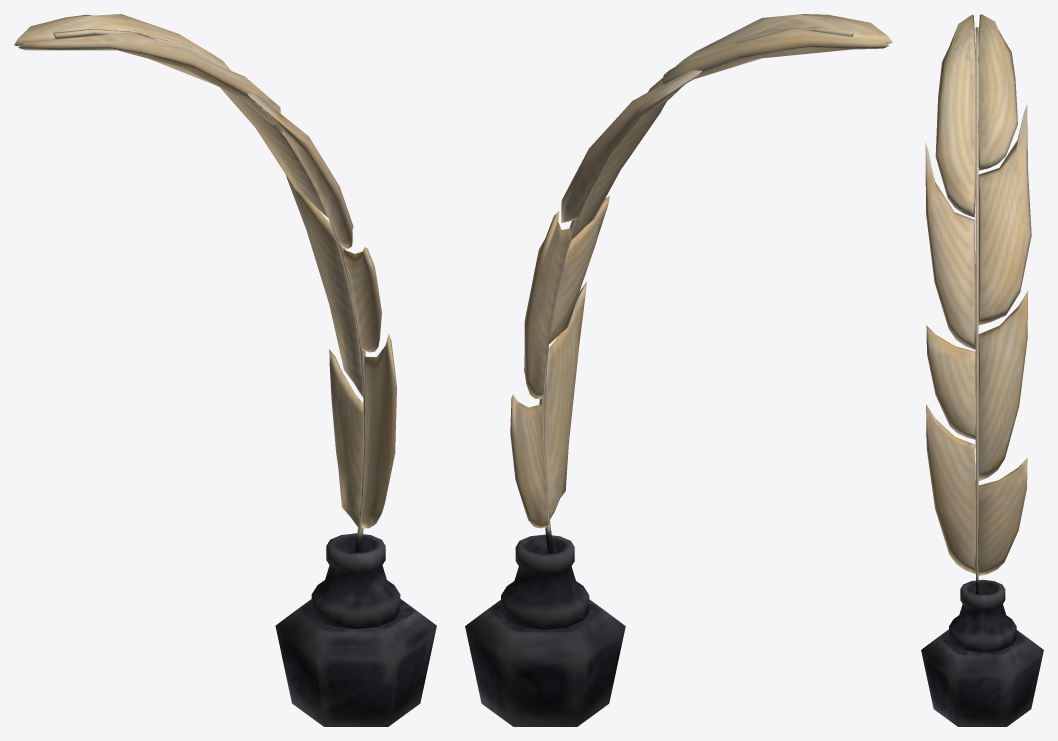
Rendered from InkPenLP.fbx.
3 views of the same model, side by side, from view 1: azimuth 30°, elevation 25°; view 2: azimuth 150°, elevation 25°; view 3: azimuth 270°, elevation 25° (orthographic). The views are drawn at different scales.
Parts seen in each view (by area): view 1: inkpen; view 2: inkpen; view 3: inkpen.
Boxes of the visible parts, x1=… form: inkpen: x1=14, y1=14, x2=436, y2=726; inkpen: x1=465, y1=14, x2=892, y2=726; inkpen: x1=921, y1=14, x2=1043, y2=726.
Bounding box in the file's own units: 818 × 1447 × 283.
